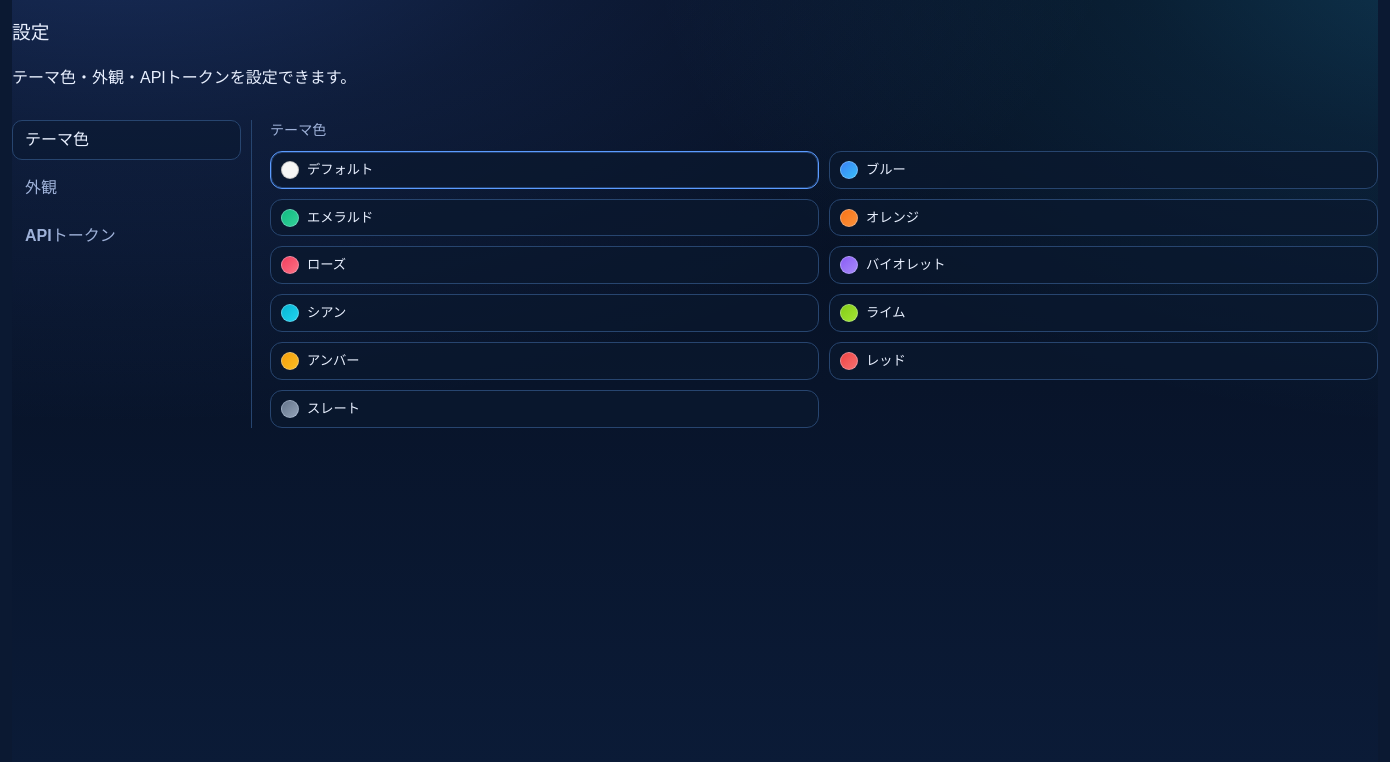
Test: SettingsPanel › loads token list when API token section is opened
The image size is (1390, 762).
Click the tab "APIトークン" at [126, 236], box top-left (12, 216), bottom-right (241, 257)
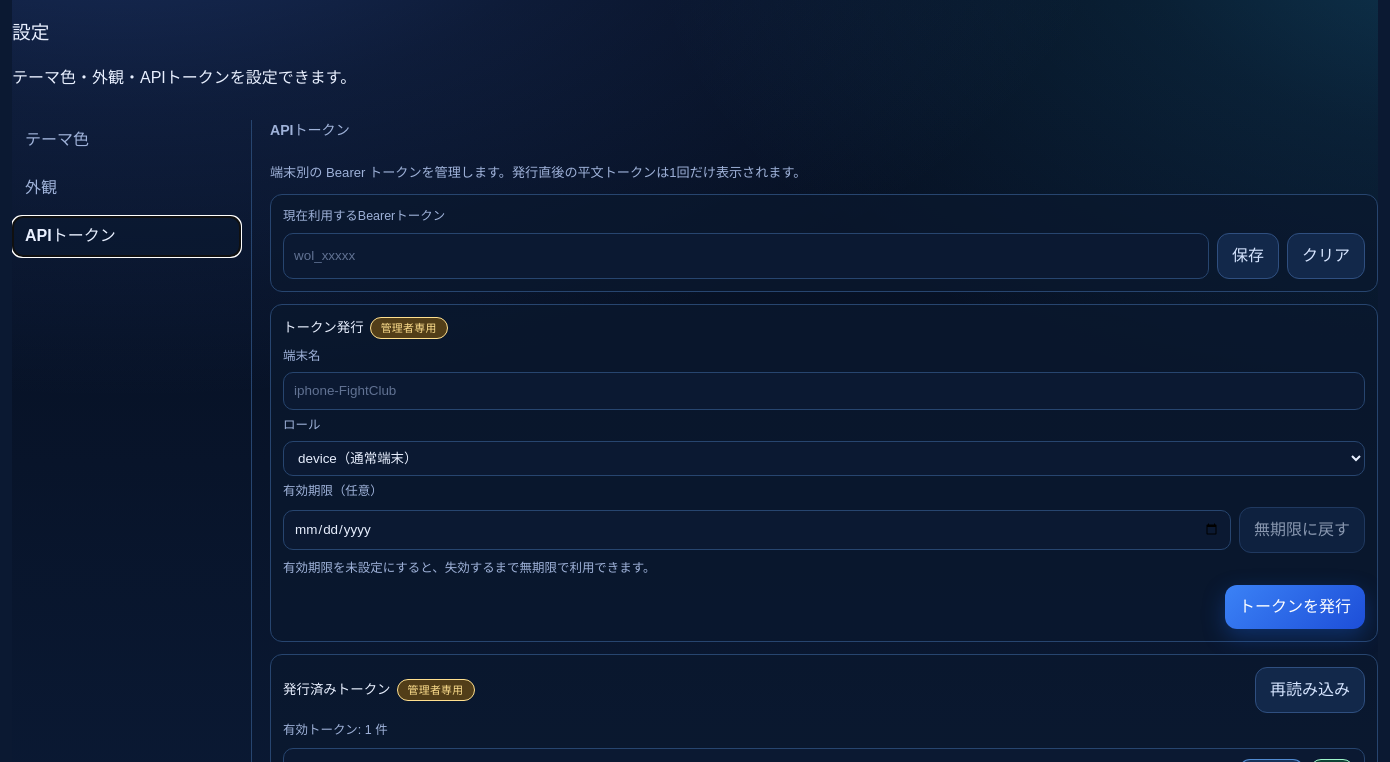
expect the text "有効トークン: 1 件" is shown: met, box top-left (283, 723), bottom-right (388, 737)
expect the text "管理者専用" next to "トークン発行" is shown: met, box top-left (381, 322), bottom-right (437, 334)
